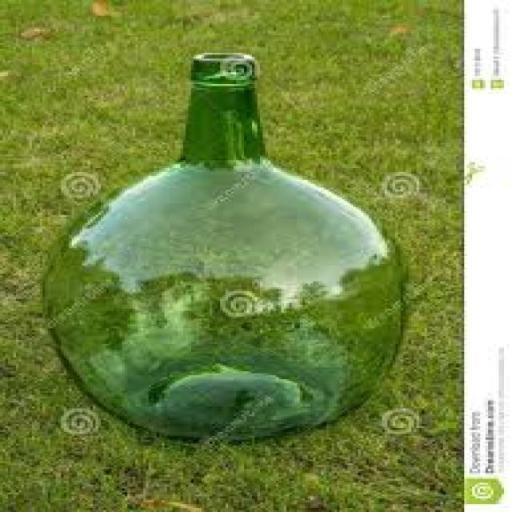glass: (13, 46, 448, 468)
